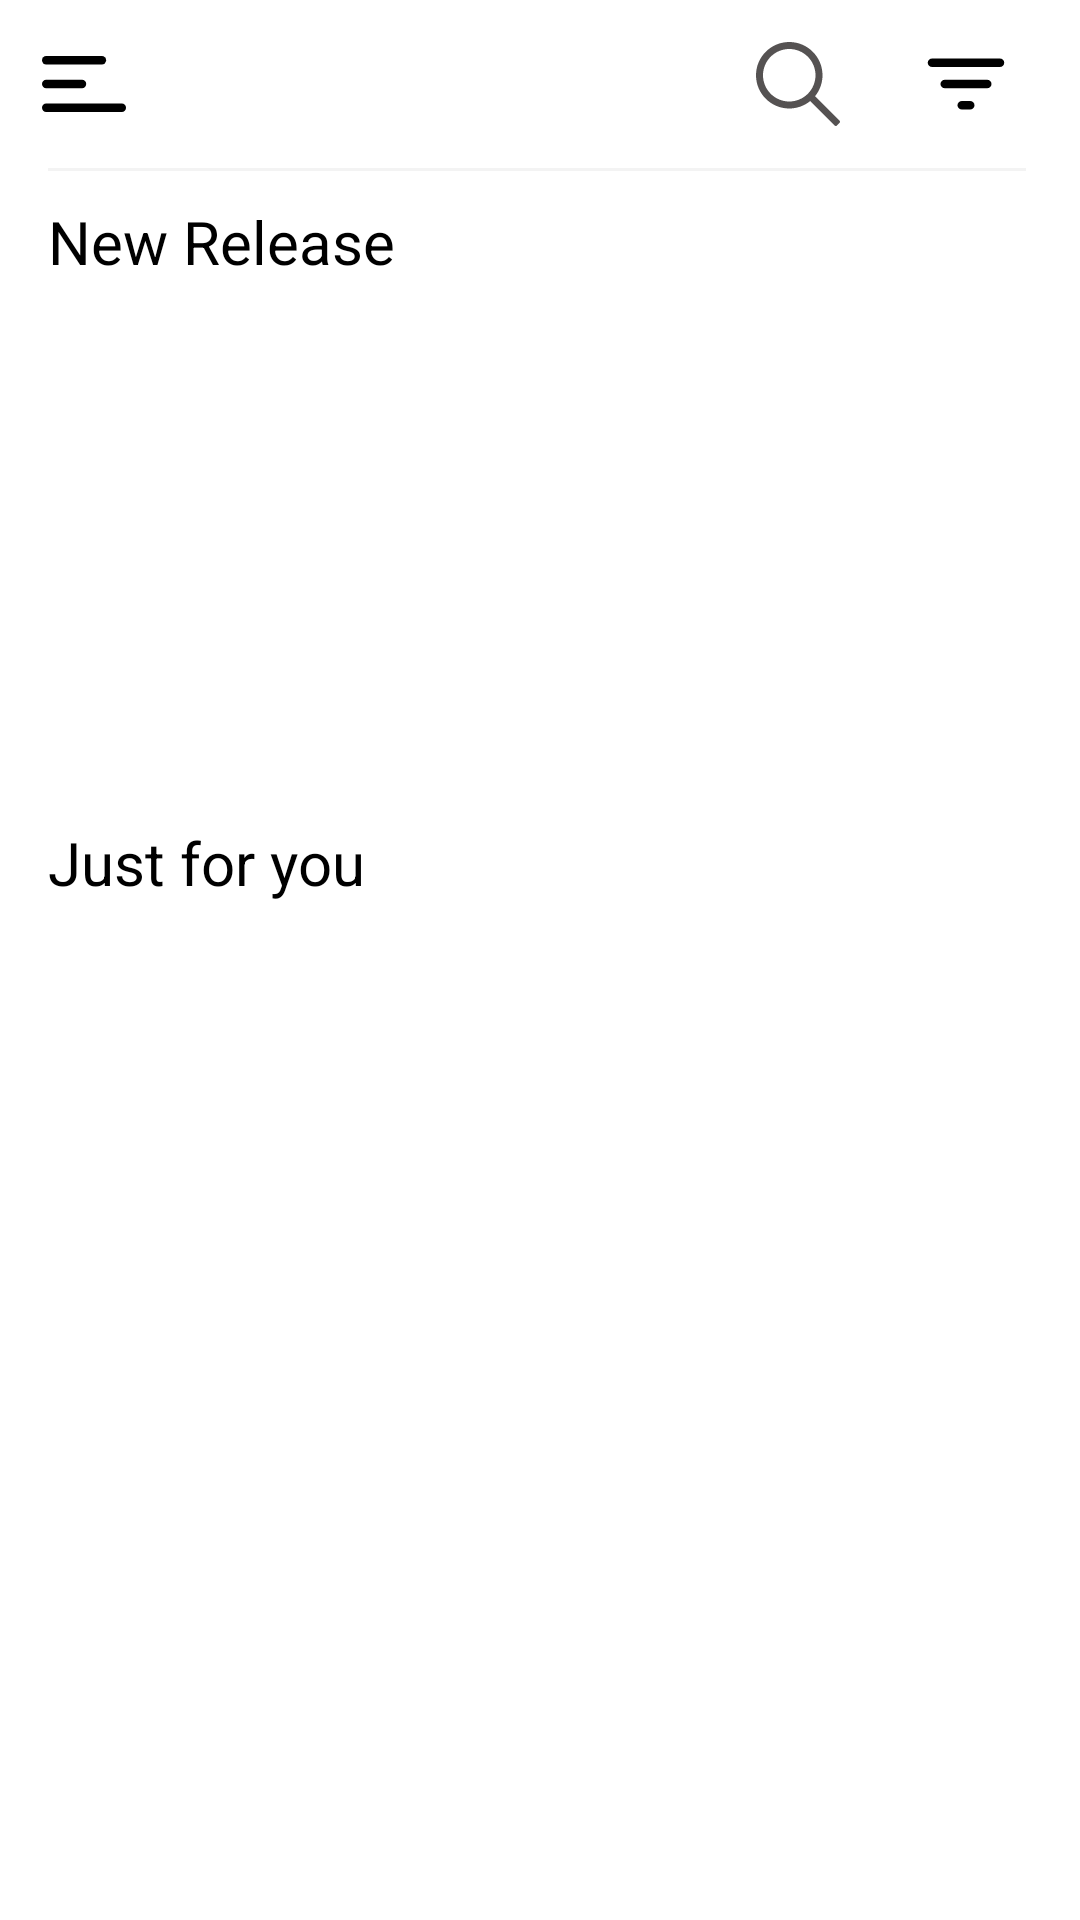

Where icons sit on this 1080w x 1920h app screen, as {"left": x1, "top": y1, "right": x2, "bottom": y2}:
filter: {"left": 927, "top": 58, "right": 1005, "bottom": 110}
option: {"left": 42, "top": 56, "right": 126, "bottom": 112}
search: {"left": 756, "top": 42, "right": 840, "bottom": 126}
